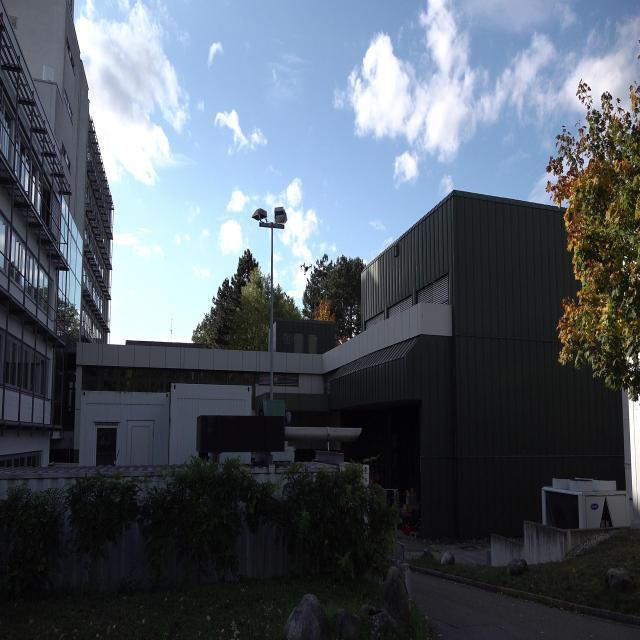drone: (298, 258, 316, 278)
